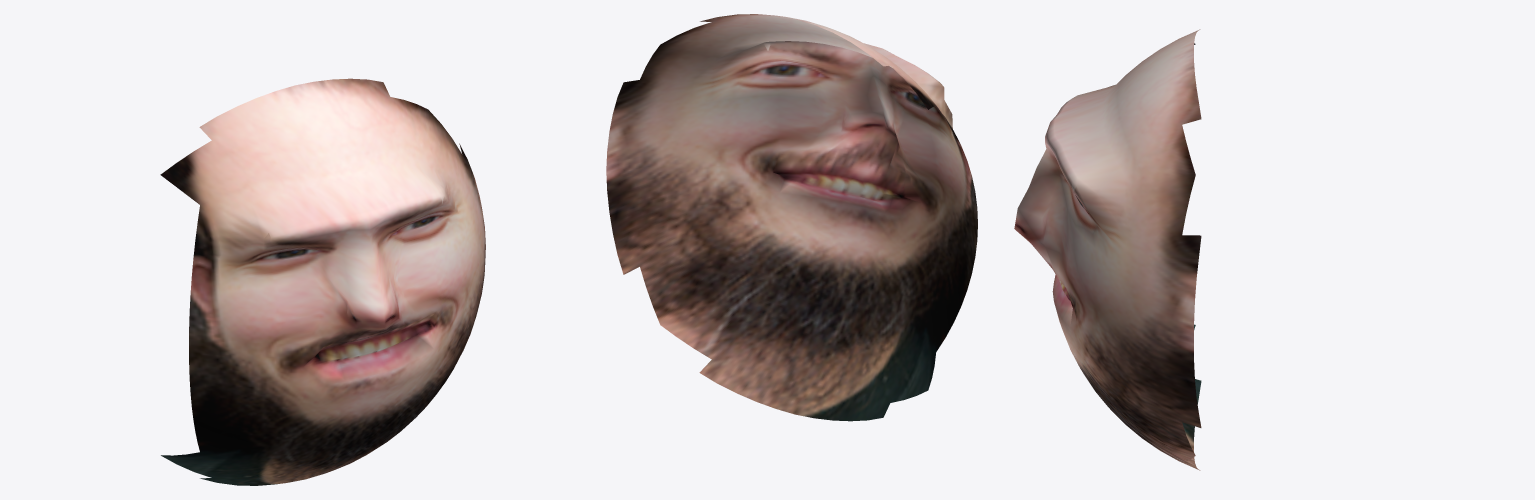
File: model_jeff.fbx
3 renders of one model, left to right at view 1: azimuth 30°, elevation 25°; view 2: azimuth 150°, elevation 25°; view 3: azimuth 270°, elevation 25°, orthographic.
Visible parts, largest first — view 1: Cube.001; view 2: Cube.001; view 3: Cube.001.
Part boxes in pixels (x1=…): Cube.001: x1=160, y1=78, x2=485, y2=485; Cube.001: x1=606, y1=14, x2=977, y2=421; Cube.001: x1=1014, y1=29, x2=1201, y2=470.
Size of the model in its own units: 369 by 369 by 396.
